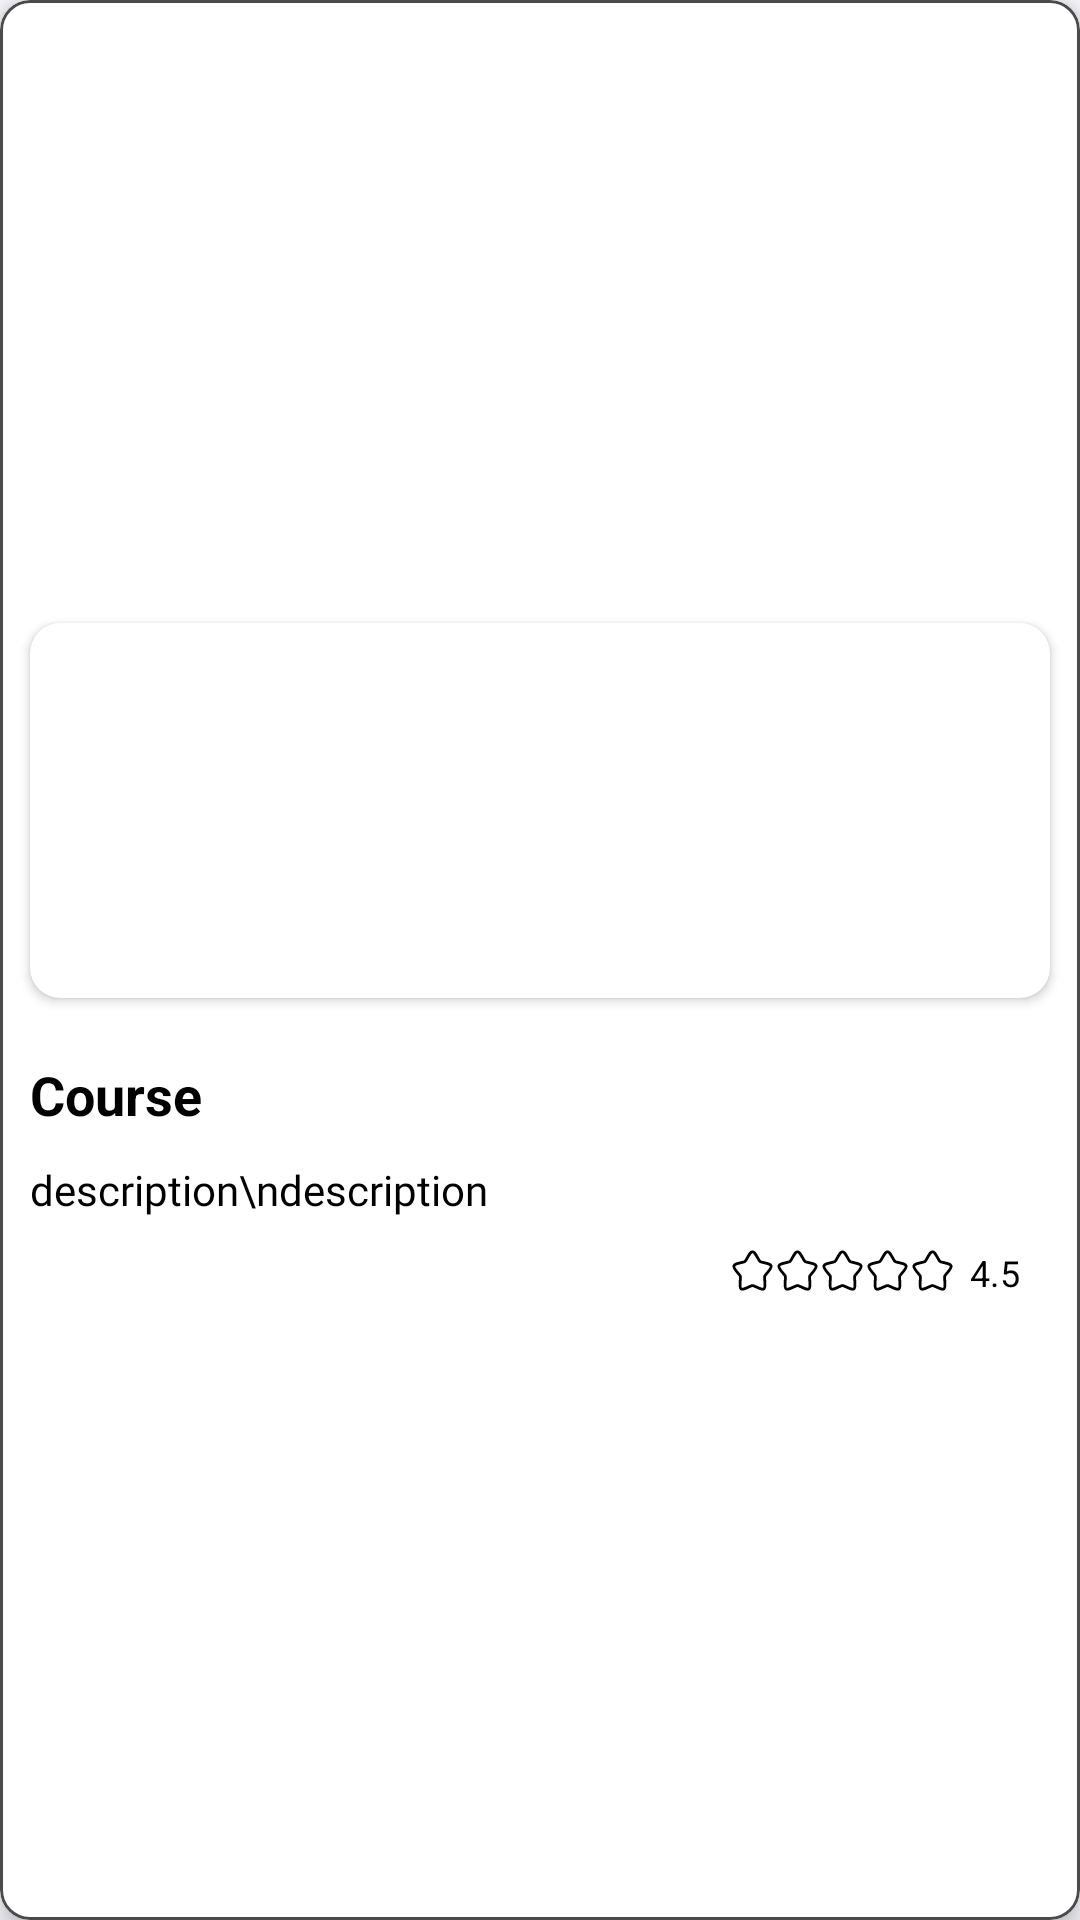

Where icons sit on this 1080 x 1920 app screen, as (x1=x1, y1=y1, x2=x2, y2=y2):
star: (x1=732, y1=1250, x2=773, y2=1291), (x1=777, y1=1250, x2=818, y2=1291), (x1=822, y1=1250, x2=863, y2=1291), (x1=867, y1=1250, x2=908, y2=1291), (x1=912, y1=1250, x2=953, y2=1291)
